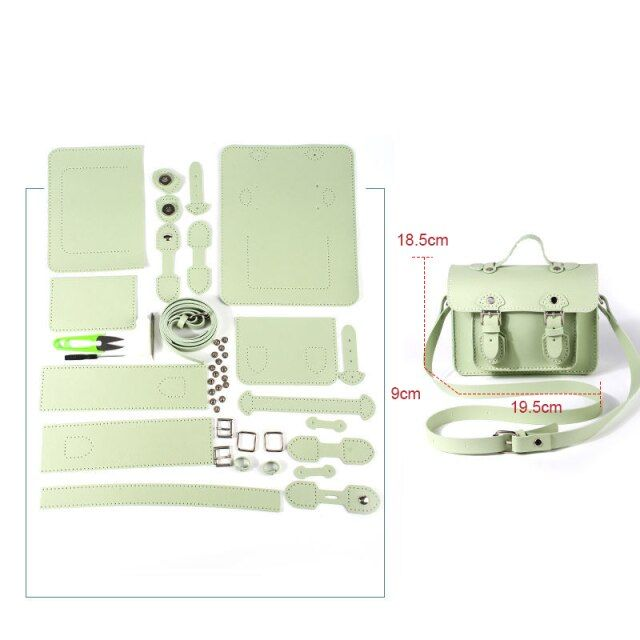cuero: (424, 234, 640, 456)
